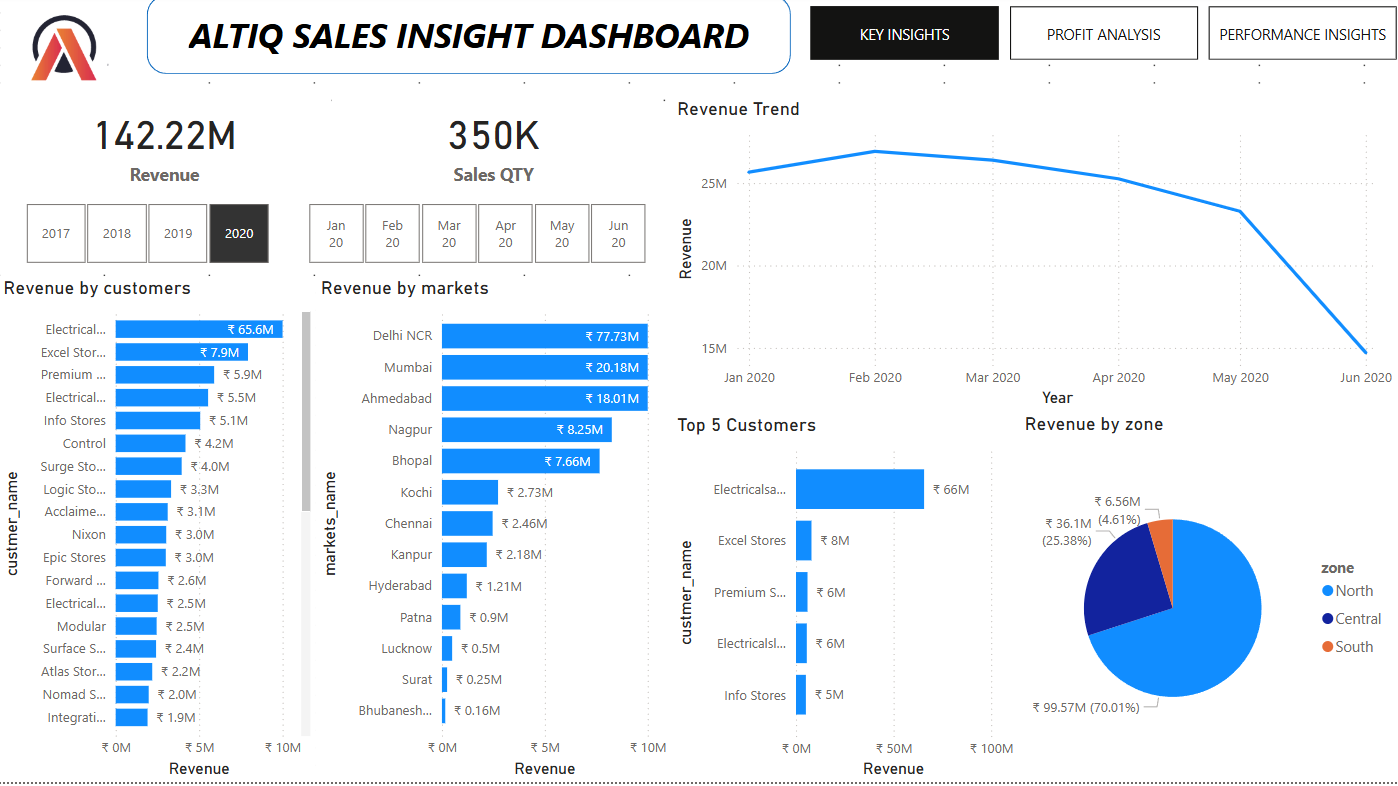

The page's visual inventory and layout, read from the dashboard file:
{"tool":"powerbi","page":{"name":"KEY INSIGHTS","canvas":[1280,720],"ordinal":0},"visuals":[{"type":"card","fields":{"Values":["Basic Measures.Revenue"]},"box":[0,86.5,304.6,97.2],"z":0},{"type":"card","fields":{"Values":["Basic Measures.Sales QTY"]},"box":[304.6,86.5,296.3,97.2],"z":1000},{"type":"image","box":[0,0,113.8,97.2],"z":2000},{"type":"clusteredBarChart","title":"Revenue by customers","fields":{"Y":["Basic Measures.Revenue"],"Category":["sales customers.custmer_name"]},"box":[0,257.2,290.4,463.4],"z":3000},{"type":"clusteredBarChart","title":"Revenue by markets","fields":{"Y":["Basic Measures.Revenue"],"Category":["sales markets.markets_name"]},"box":[290.4,257.2,325.9,463.4],"z":4000},{"type":"slicer","fields":{"Values":["sales date.cy_date"]},"box":[258.4,183.7,357.9,67.6],"z":5000},{"type":"slicer","fields":{"Values":["sales date.year"]},"box":[0,183.7,271.4,67.6],"z":6000},{"type":"lineChart","title":"Revenue Trend","fields":{"Y":["Basic Measures.Revenue"],"Category":["sales date.cy_date.Variation.Date Hierarchy.Year","sales date.cy_date.Variation.Date Hierarchy.Quarter","sales date.cy_date.Variation.Date Hierarchy.Month","sales date.cy_date.Variation.Date Hierarchy.Day"]},"box":[616.3,93.6,663.7,288],"z":7000},{"type":"pieChart","fields":{"Category":["sales markets.zone"],"Y":["Basic Measures.Revenue"]},"box":[933.9,381.6,346.1,339],"z":8000},{"type":"barChart","title":"Top 5 Customers","fields":{"Category":["sales customers.custmer_name"],"Y":["Basic Measures.Revenue"]},"box":[616.3,382.6,317.2,338.1],"z":9000},{"type":"pageNavigator","box":[743.1,10.7,536.9,49.8],"z":10000},{"type":"shape","box":[136.3,0,589,72.3],"z":11000}]}

Visuals, with their boxes in screenshot pixels (x1, y1, x2, y2), scaled from the page's 1280x720 canvas onto the 1398x786 screenshot:
card - Basic Measures.Revenue: x1=0, y1=94, x2=333, y2=201
card - Basic Measures.Sales QTY: x1=333, y1=94, x2=656, y2=201
image: x1=0, y1=0, x2=124, y2=106
"Revenue by customers" clusteredBarChart: x1=0, y1=281, x2=317, y2=785
"Revenue by markets" clusteredBarChart: x1=317, y1=281, x2=673, y2=785
slicer - sales date.cy_date: x1=282, y1=201, x2=673, y2=274
slicer - sales date.year: x1=0, y1=201, x2=296, y2=274
"Revenue Trend" lineChart: x1=673, y1=102, x2=1397, y2=417
pieChart - sales markets.zone x Basic Measures.Revenue: x1=1020, y1=417, x2=1397, y2=785
"Top 5 Customers" barChart: x1=673, y1=418, x2=1020, y2=785
pageNavigator: x1=812, y1=12, x2=1397, y2=66
shape: x1=149, y1=0, x2=792, y2=79
